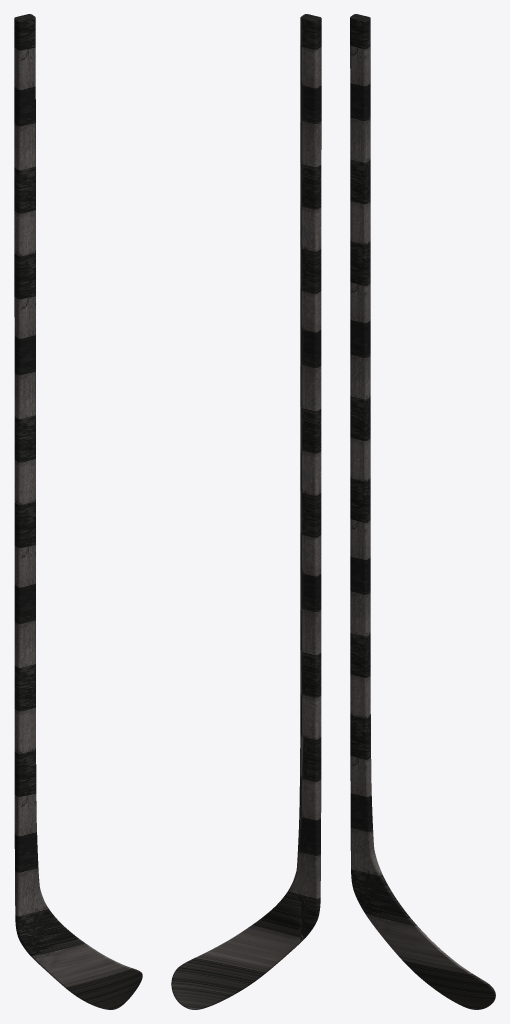
File: P90TM-LIE6-ST.glb
The picture shows the model from 3 angles, left to right: view 1: azimuth 30°, elevation 25°; view 2: azimuth 150°, elevation 25°; view 3: azimuth 330°, elevation 25°; orthographic projection. The views are drawn at different scales.
Visible parts, largest first — view 1: geometry_0; view 2: geometry_0; view 3: geometry_0.
Part boxes in pixels (left/top/right/bottom): geometry_0: left=14, top=14, right=142, bottom=1009; geometry_0: left=171, top=14, right=321, bottom=1009; geometry_0: left=350, top=14, right=495, bottom=1009.
Size of the model in its own units: 232 by 1650 by 57.18.
1 material, 1 textured.
